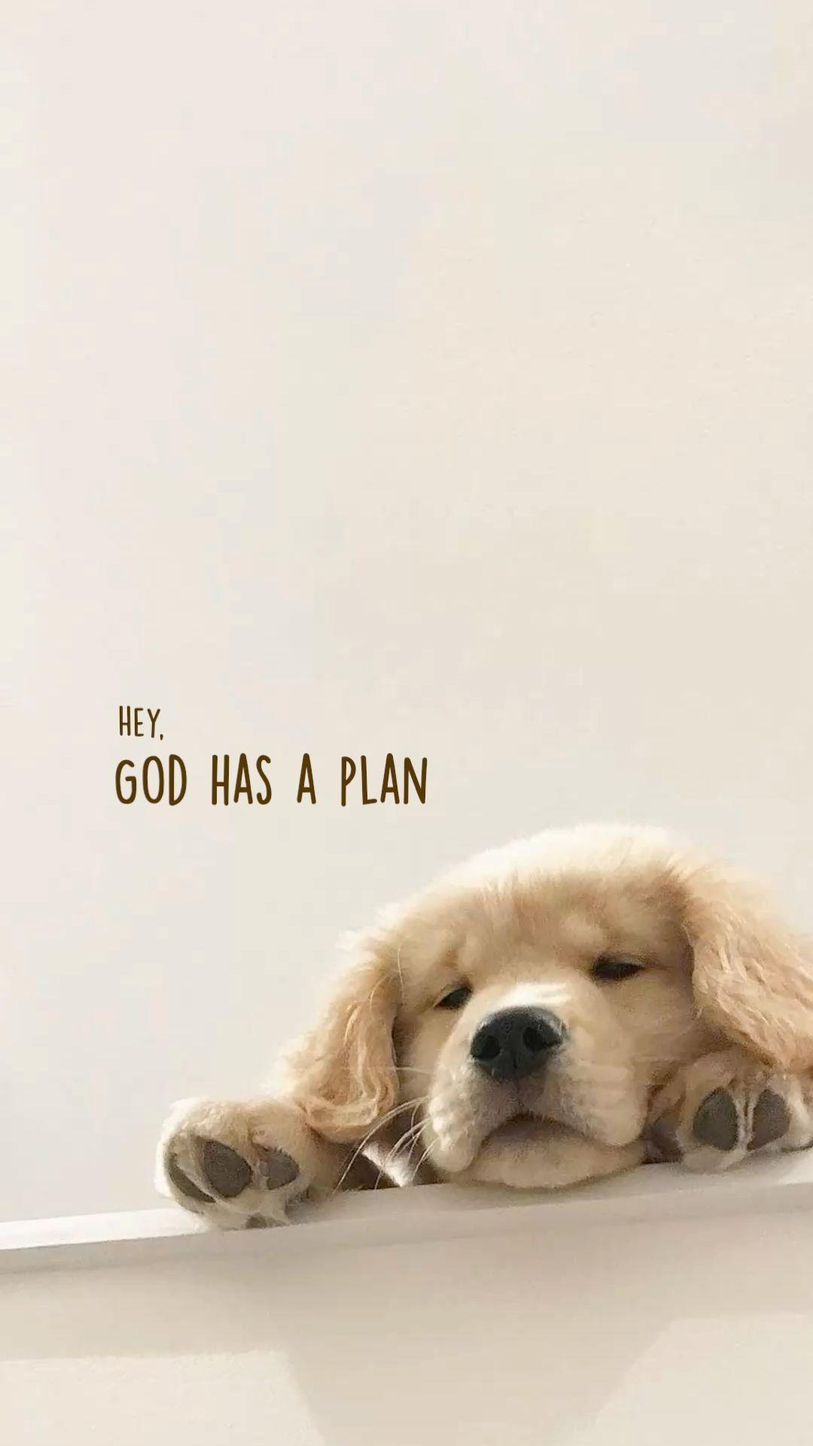puppy-dog: (150, 815, 813, 1234)
